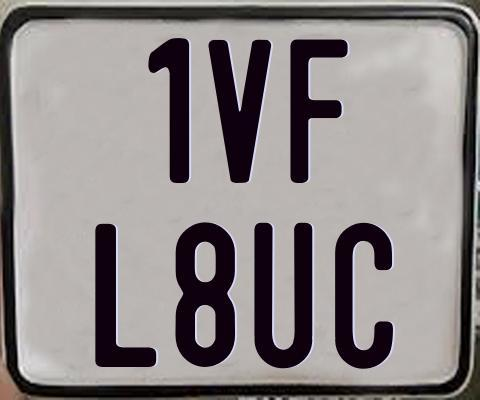1: (147, 36, 193, 186)
8: (173, 220, 238, 368)
C: (334, 221, 398, 373)
F: (289, 37, 349, 181)
L: (93, 221, 154, 366)
U: (252, 223, 312, 371)
V: (206, 37, 271, 185)
